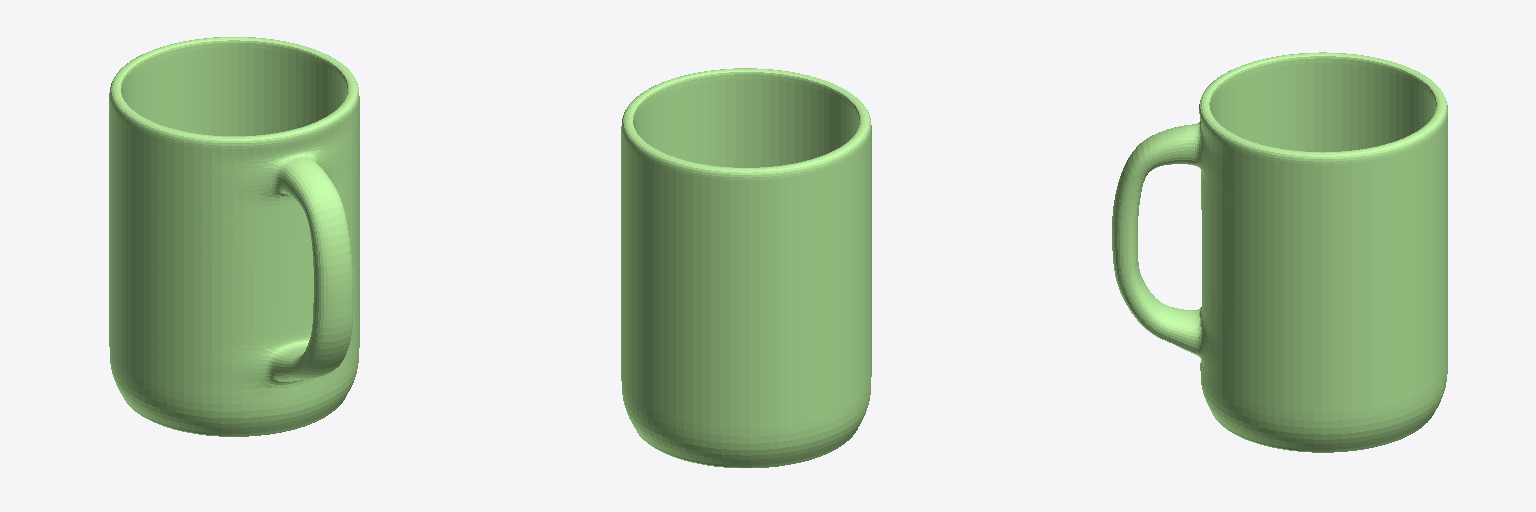
The model's file is cup.obj.
3 renders of one model, left to right at view 1: azimuth 30°, elevation 25°; view 2: azimuth 150°, elevation 25°; view 3: azimuth 270°, elevation 25°, orthographic.
Parts seen in each view (by area): view 1: initialShadingGroup_initialShadingGroupMesh; view 2: initialShadingGroup_initialShadingGroupMesh; view 3: initialShadingGroup_initialShadingGroupMesh.
Part boxes in pixels (x1,y1,x2,y2): initialShadingGroup_initialShadingGroupMesh: (109,37,359,436); initialShadingGroup_initialShadingGroupMesh: (621,68,871,467); initialShadingGroup_initialShadingGroupMesh: (1112,52,1447,452).
Size of the model in its own units: 9.45 by 12.73 by 12.7.